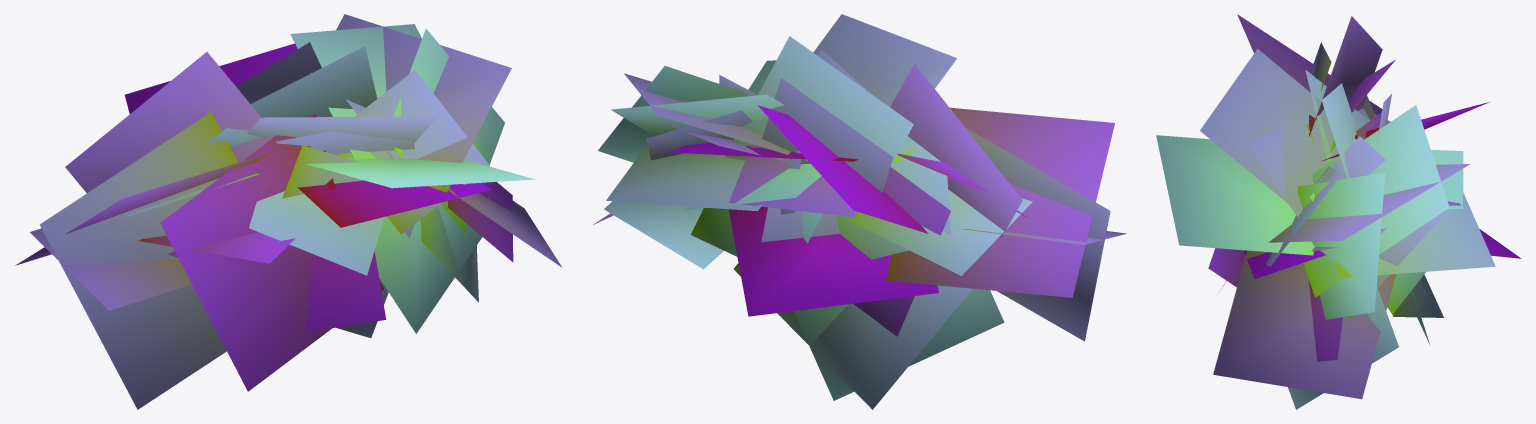
The model's file is tree_planter_azalea_lod1.glb.
3 views of the same model, side by side, from view 1: azimuth 30°, elevation 25°; view 2: azimuth 150°, elevation 25°; view 3: azimuth 270°, elevation 25° (orthographic). The views are drawn at different scales.
Parts seen in each view (by area): view 1: tree_planter_azalea_lod1; view 2: tree_planter_azalea_lod1; view 3: tree_planter_azalea_lod1.
Part boxes in pixels (x1,y1,x2,y2): tree_planter_azalea_lod1: (15,14,562,409); tree_planter_azalea_lod1: (593,14,1126,409); tree_planter_azalea_lod1: (1156,14,1521,409).
Bounding box in the file's own units: 2.32 × 1.42 × 1.51.
